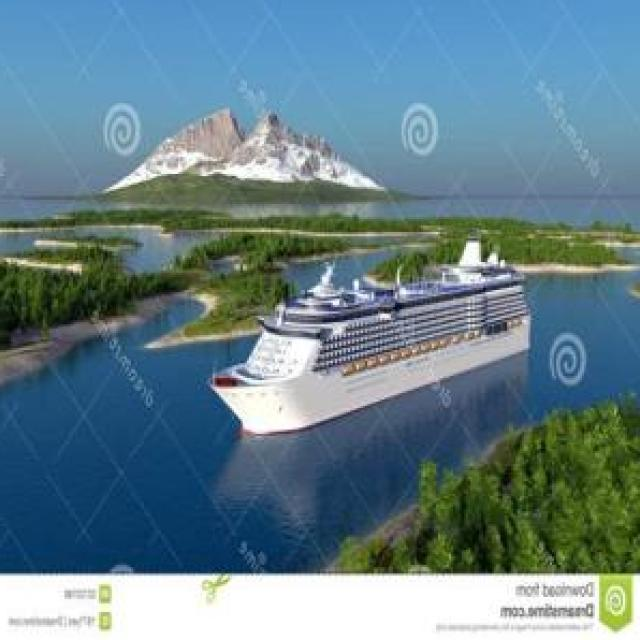passenger ship: (209, 233, 540, 431)
